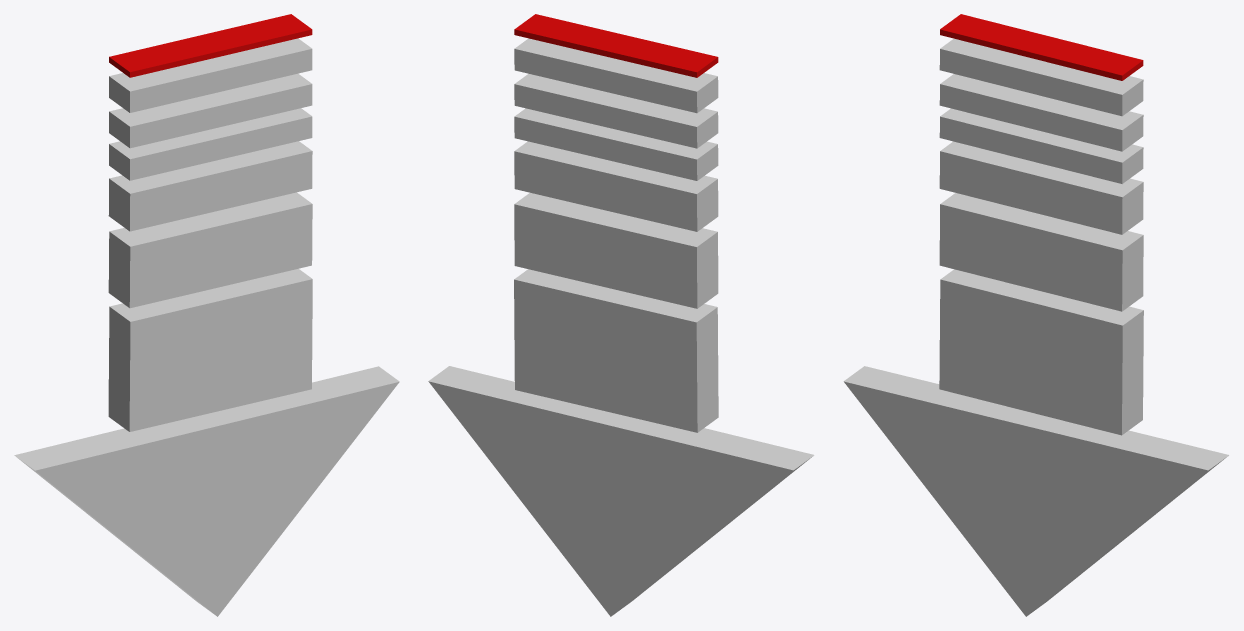
The model's file is arrow-2.fbx.
3 renders of one model, left to right at view 1: azimuth 30°, elevation 25°; view 2: azimuth 150°, elevation 25°; view 3: azimuth 330°, elevation 25°, orthographic.
Parts seen in each view (by area): view 1: Box1, Box, Box2, Box3, Box5, Box6, Box4, Box7; view 2: Box1, Box, Box2, Box3, Box5, Box6, Box4, Box7; view 3: Box1, Box, Box2, Box3, Box5, Box6, Box4, Box7.
Part boxes in pixels (box(x1,y1,x2,y2)): Box1: box(14, 366, 399, 616); Box: box(108, 268, 312, 431); Box2: box(108, 192, 312, 308); Box3: box(108, 141, 312, 231); Box5: box(109, 73, 312, 148); Box6: box(109, 38, 312, 112); Box4: box(109, 108, 312, 180); Box7: box(109, 14, 312, 77); Box1: box(428, 366, 814, 616); Box: box(514, 269, 718, 432); Box2: box(514, 192, 718, 308); Box3: box(514, 141, 718, 231); Box5: box(514, 73, 718, 148); Box6: box(514, 38, 718, 113); Box4: box(514, 108, 718, 180); Box7: box(514, 14, 718, 77); Box1: box(843, 366, 1228, 616); Box: box(939, 269, 1143, 435); Box2: box(939, 193, 1143, 311); Box3: box(939, 141, 1143, 234); Box5: box(939, 74, 1143, 151); Box6: box(939, 38, 1143, 116); Box4: box(939, 108, 1143, 183); Box7: box(940, 14, 1143, 80).
Size of the model in its own units: 1 by 1.48 by 0.1035.
